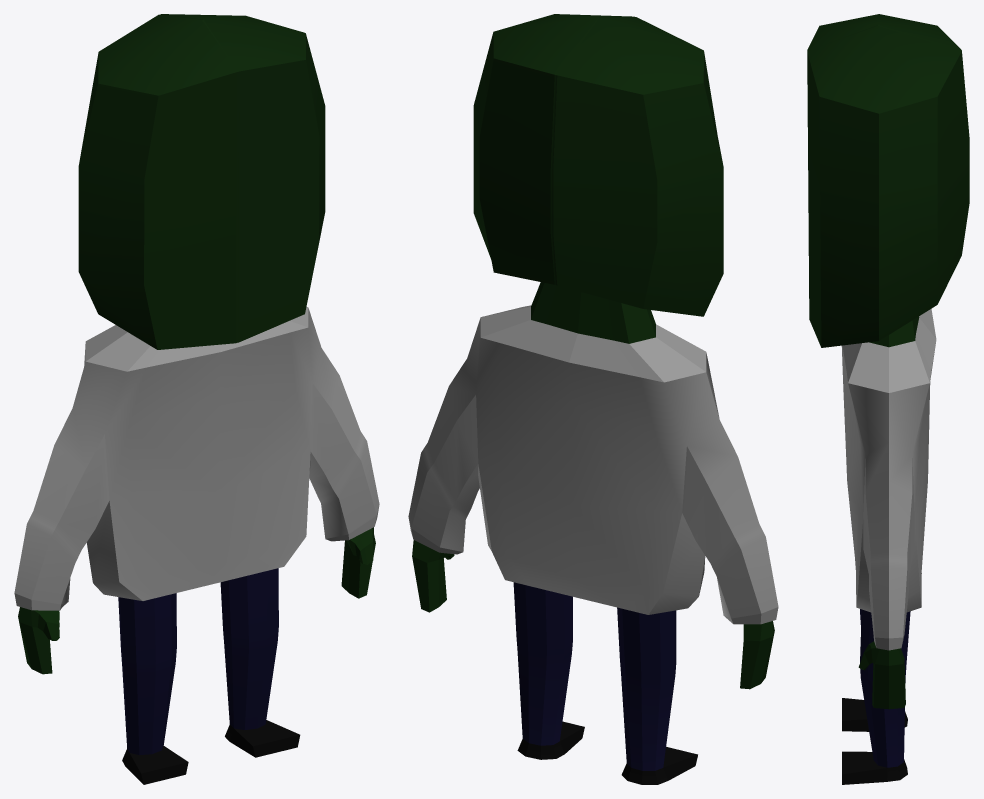
File: Zombie.FBX
3 views of the same model, side by side, from view 1: azimuth 30°, elevation 25°; view 2: azimuth 150°, elevation 25°; view 3: azimuth 270°, elevation 25° (orthographic). The views are drawn at different scales.
Visible parts, largest first — view 1: Cylinder001; view 2: Cylinder001; view 3: Cylinder001.
Part boxes in pixels (<box>): Cylinder001: <box>14,14,379,784</box>; Cylinder001: <box>408,14,778,784</box>; Cylinder001: <box>807,14,969,784</box>.
Size of the model in its own units: 22.46 by 43.11 by 8.79.
